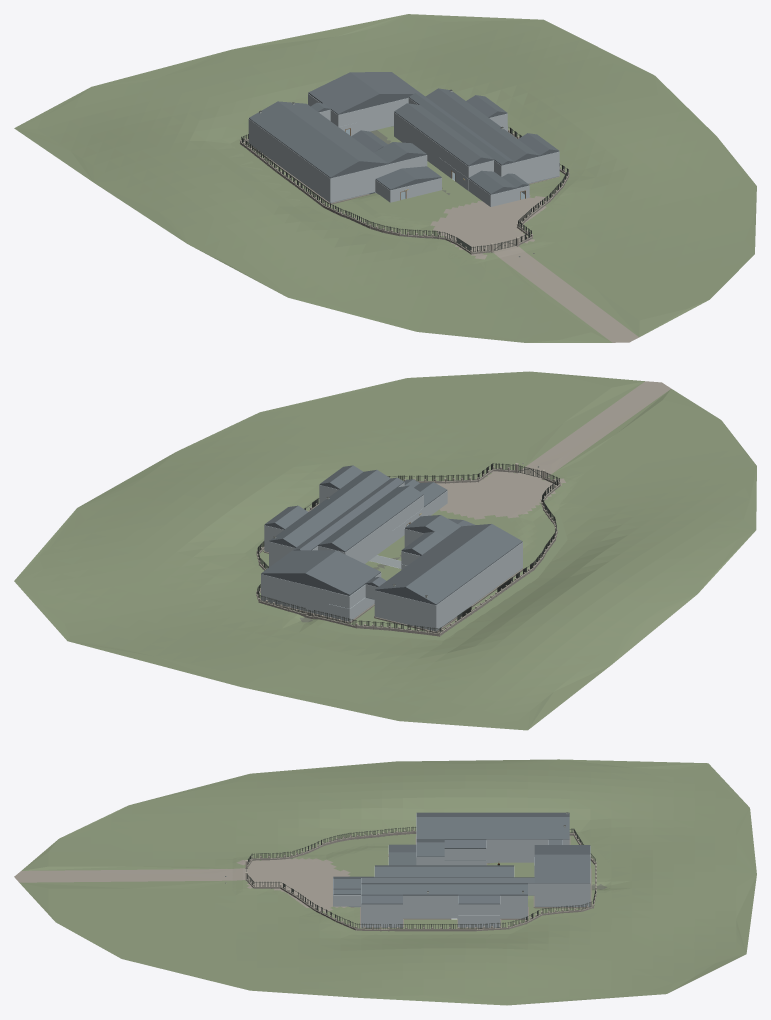
File: college-services.glb
The picture shows the model from 3 angles, top to bottom: view 1: azimuth 30°, elevation 25°; view 2: azimuth 150°, elevation 25°; view 3: azimuth 270°, elevation 25°; orthographic projection. The views are drawn at different scales.
Visible parts, largest first — view 1: College district apron, College campus earthworks with service throat, teaching-and-lecture roof west, east-residence-and-service roof west, teaching-and-lecture roof east, library roof west, west-residence roof west, Wall lecture S, library roof east, Wall lecture W, east-residence-and-service roof east, residence-spine roof west (+2 smaller); view 2: College district apron, College campus earthworks with service throat, teaching-and-lecture roof west, east-residence-and-service roof west, teaching-and-lecture roof east, library roof west, west-residence roof west, library roof east, Wall lecture W, east-residence-and-service roof east, residence-spine roof west, west-residence roof east (+1 smaller); view 3: College district apron, College campus earthworks with service throat, teaching-and-lecture roof east, east-residence-and-service roof east, library roof east, west-residence roof east, teaching-and-lecture roof west, College bearing wall retained part 09, residence-spine roof east, COLLEGE retained outside wall 4, library roof west, Wall upper-reading E (+7 smaller).
Part boxes in pixels (box(x1,y1,x2,y2)): College district apron: box(14, 14, 756, 342); College campus earthworks with service throat: box(231, 126, 580, 264); teaching-and-lecture roof west: box(249, 101, 359, 177); east-residence-and-service roof west: box(425, 88, 527, 161); teaching-and-lecture roof east: box(278, 101, 388, 164); library roof west: box(308, 72, 379, 114); west-residence roof west: box(394, 103, 481, 165); Wall lecture S: box(330, 167, 375, 202); library roof east: box(351, 72, 420, 94); Wall lecture W: box(293, 151, 330, 202); east-residence-and-service roof east: box(438, 88, 540, 155); residence-spine roof west: box(435, 112, 507, 164); College district apron: box(14, 371, 756, 730); College campus earthworks with service throat: box(243, 461, 578, 640); teaching-and-lecture roof west: box(405, 524, 522, 604); east-residence-and-service roof west: box(283, 470, 390, 547); teaching-and-lecture roof east: box(375, 524, 491, 590); library roof west: box(305, 550, 380, 595); west-residence roof west: box(331, 485, 423, 552); library roof east: box(261, 550, 336, 574); Wall lecture W: box(483, 542, 522, 595); east-residence-and-service roof east: box(269, 470, 376, 541); residence-spine roof west: box(327, 477, 404, 533); west-residence roof east: box(318, 485, 409, 545); College district apron: box(14, 759, 756, 1005); College campus earthworks with service throat: box(232, 829, 611, 934); teaching-and-lecture roof east: box(416, 817, 569, 839); east-residence-and-service roof east: box(361, 884, 527, 895); library roof east: box(534, 854, 590, 883); west-residence roof east: box(375, 866, 513, 877); teaching-and-lecture roof west: box(416, 812, 569, 816); College bearing wall retained part 09: box(486, 839, 548, 851); residence-spine roof east: box(361, 878, 486, 882); COLLEGE retained outside wall 4: box(486, 851, 534, 862); library roof west: box(534, 845, 590, 854); Wall upper-reading E: box(548, 883, 590, 895).
Size of the model in its own units: 166 by 16.1 by 214.
122 materials, 85 textured.
